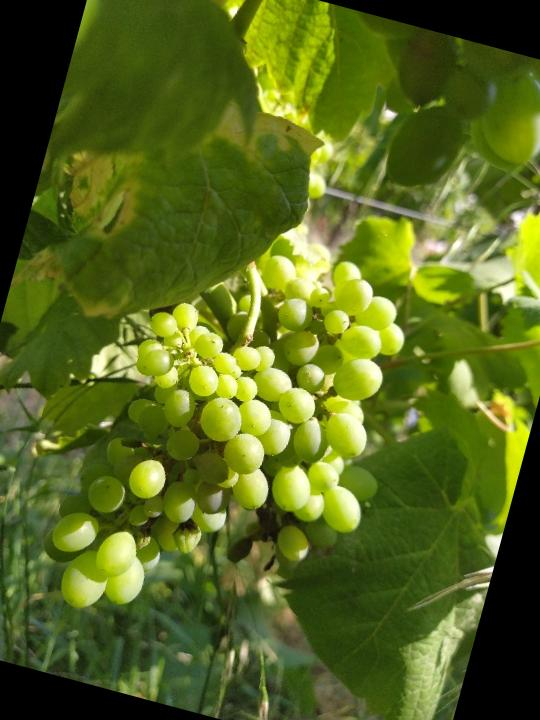grape: (25, 199, 437, 680)
